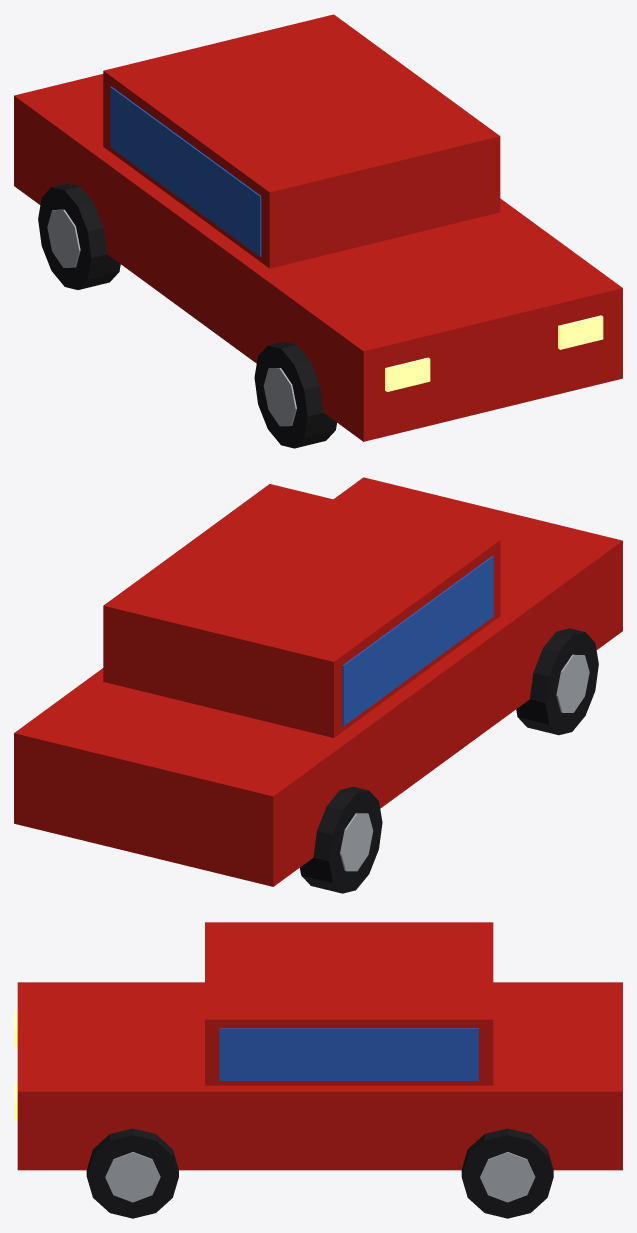
Rendered from garage_sedan_car.glb.
3 renders of one model, top to bottom at view 1: azimuth 30°, elevation 25°; view 2: azimuth 150°, elevation 25°; view 3: azimuth 270°, elevation 25°, orthographic. The views are drawn at different scales.
Parts seen in each view (by area): view 1: sedan_car; view 2: sedan_car; view 3: sedan_car.
Boxes of the visible parts, bbox=[...] form: sedan_car: bbox=[14, 14, 622, 448]; sedan_car: bbox=[14, 477, 622, 893]; sedan_car: bbox=[14, 922, 622, 1218].
Size of the model in its own units: 2.04 by 1.42 by 4.22.
